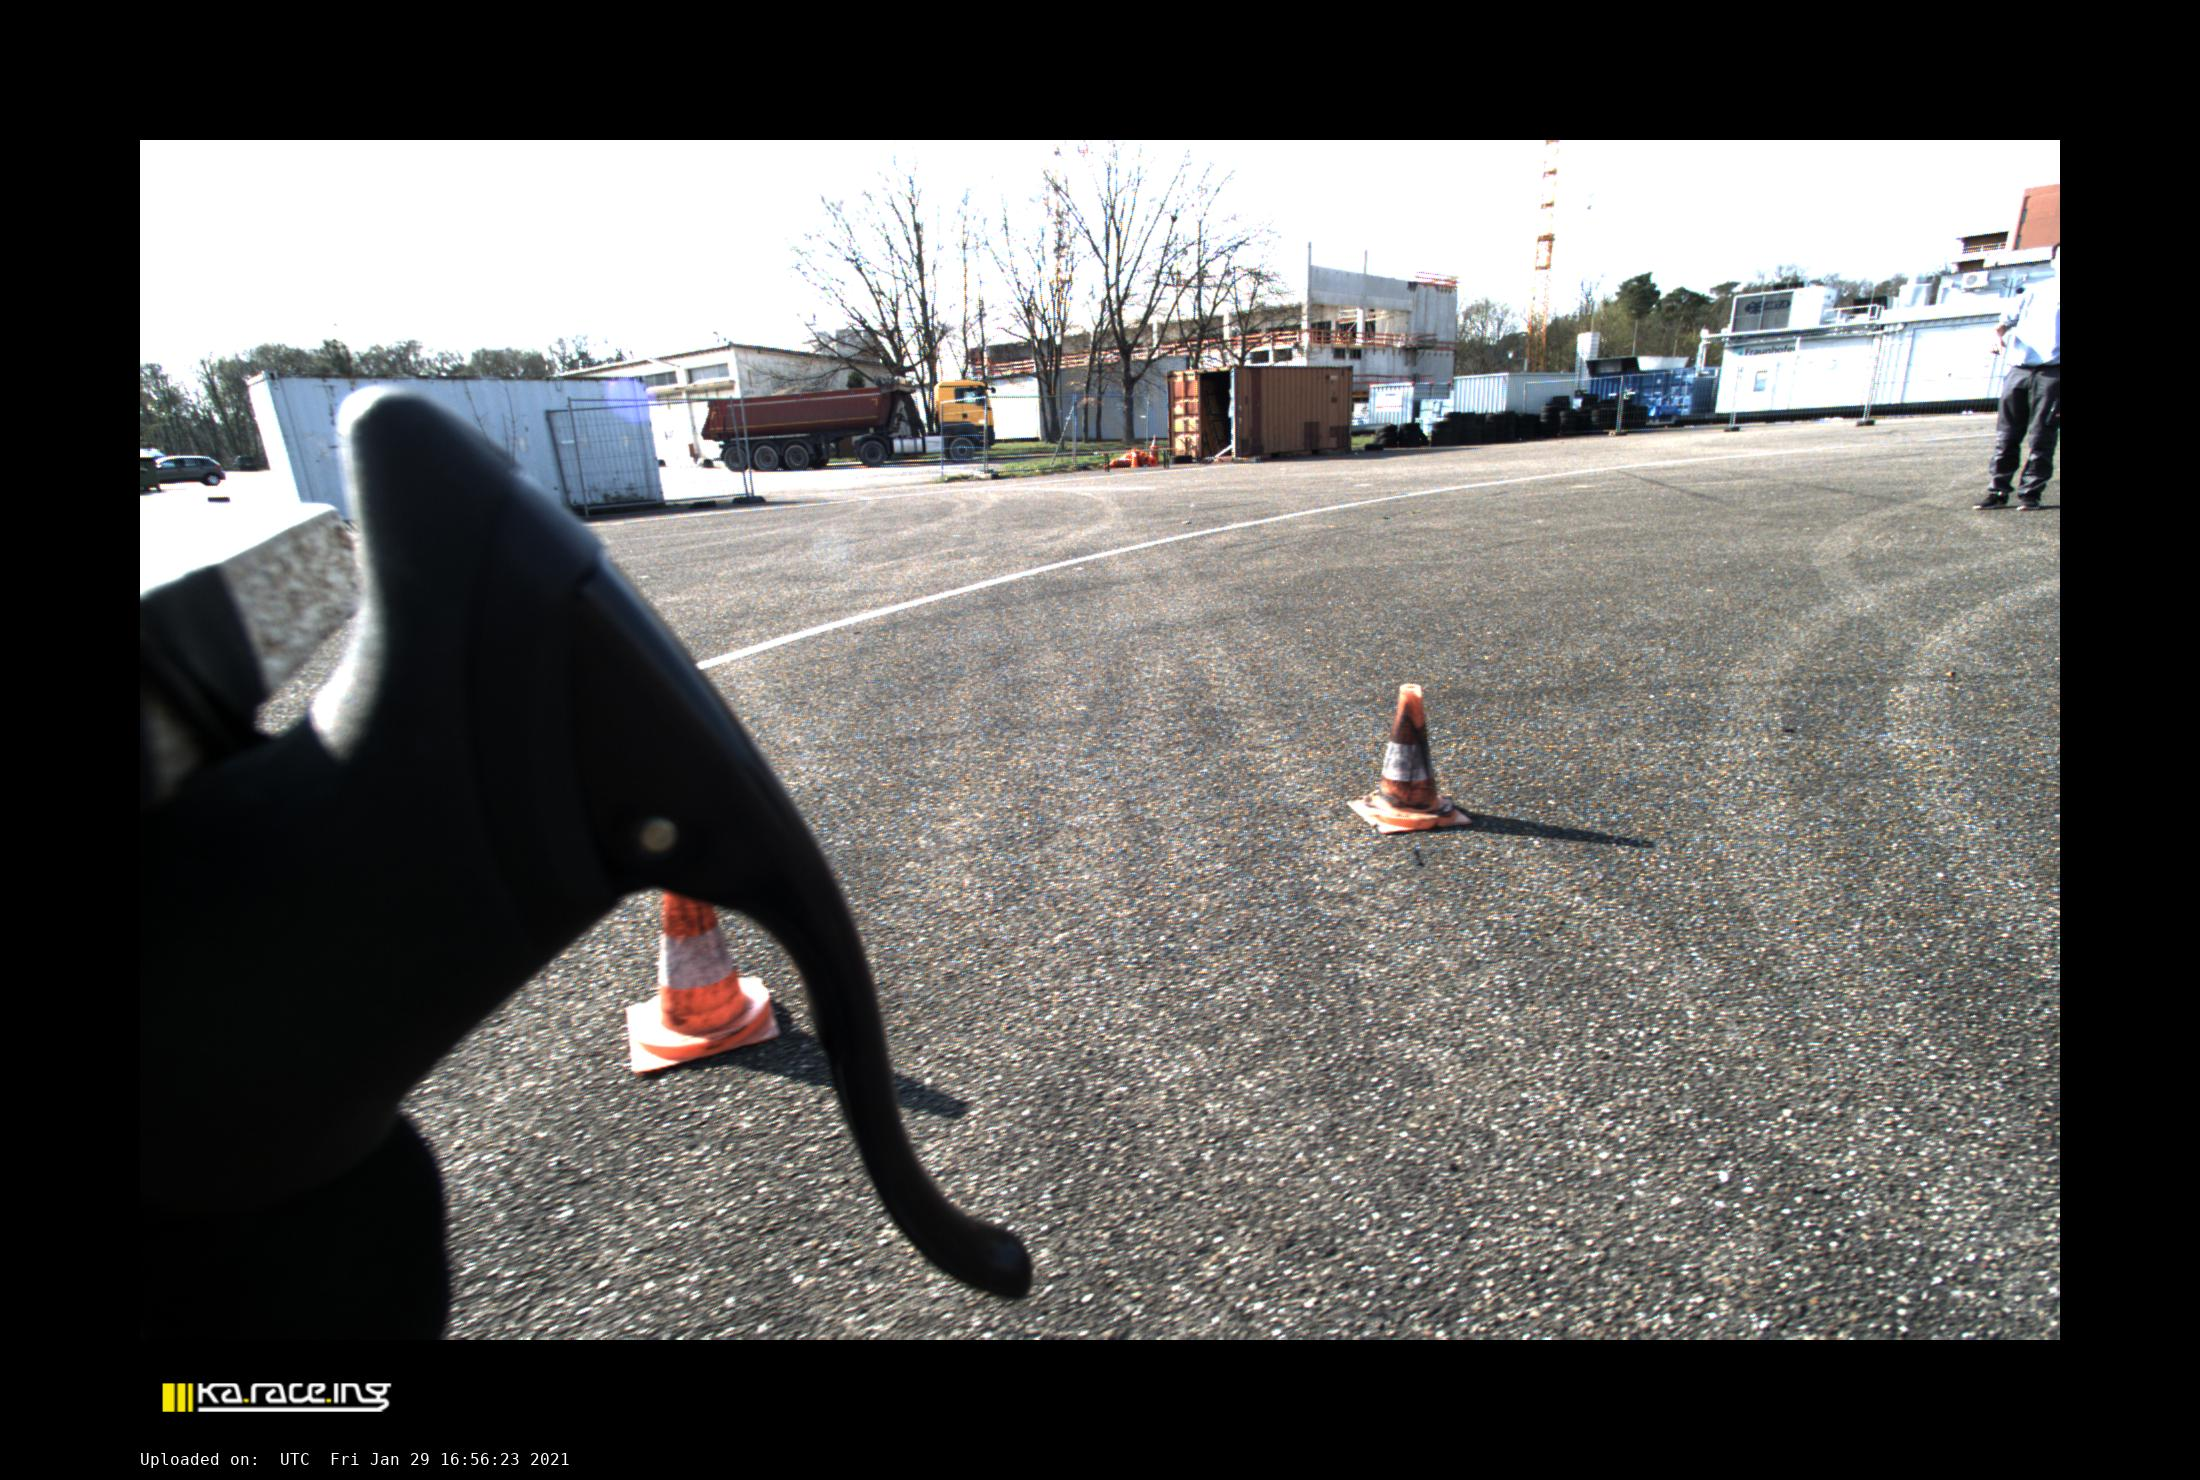orange_cone: (626, 892, 781, 1075), (1348, 684, 1473, 834)
